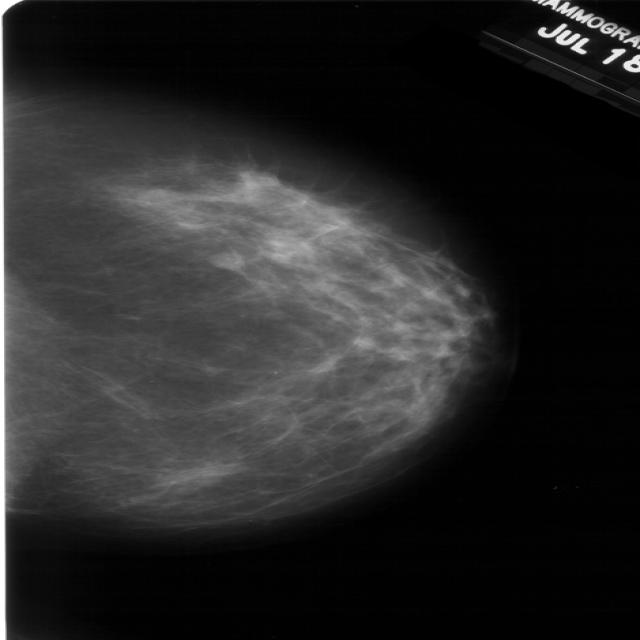tumour: (204, 251, 247, 269)
